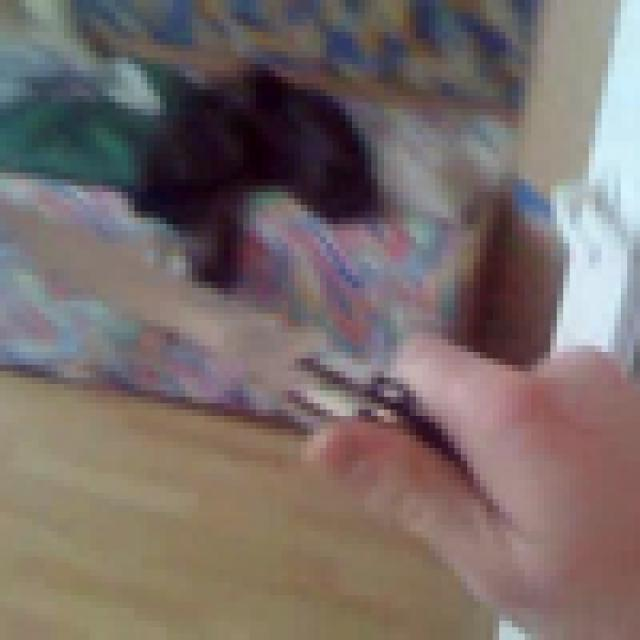Knife: (0, 166, 474, 564)
